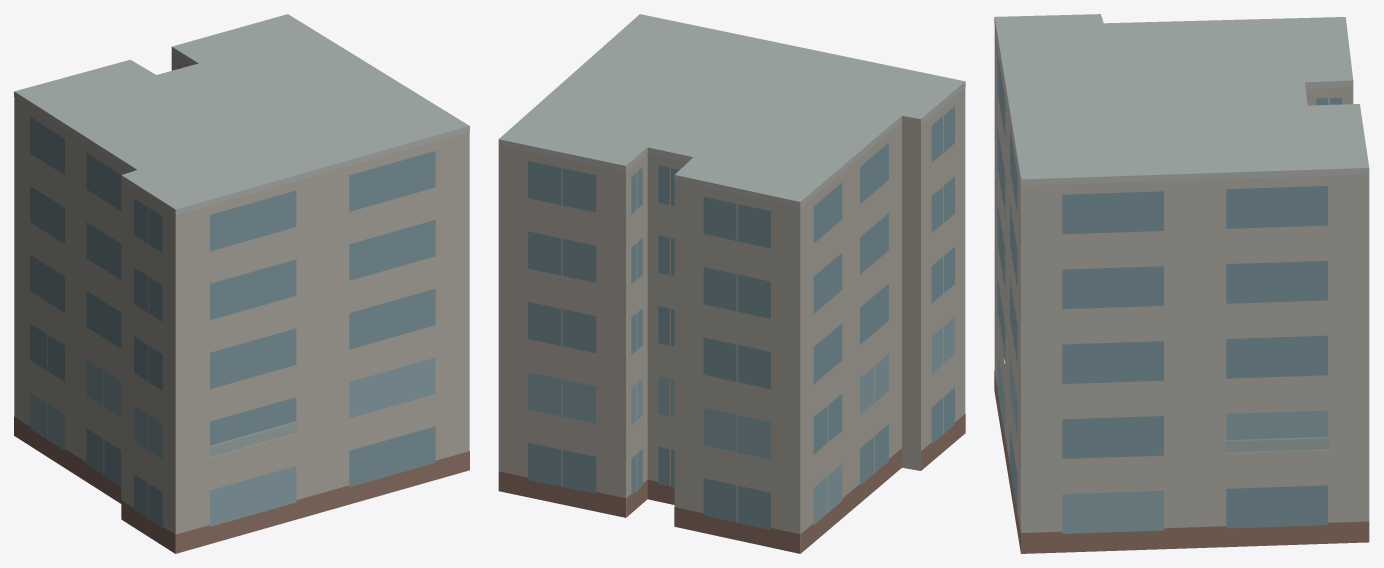
The model's file is survey-upis-32984139.glb.
3 renders of one model, left to right at view 1: azimuth 30°, elevation 25°; view 2: azimuth 150°, elevation 25°; view 3: azimuth 270°, elevation 25°, orthographic. The views are drawn at different scales.
Parts seen in each view (by area): view 1: survey-upis-32984139.tmp; view 2: survey-upis-32984139.tmp; view 3: survey-upis-32984139.tmp.
Part boxes in pixels (x1=…): survey-upis-32984139.tmp: x1=14, y1=14, x2=469, y2=553; survey-upis-32984139.tmp: x1=498, y1=14, x2=965, y2=553; survey-upis-32984139.tmp: x1=994, y1=14, x2=1369, y2=553.
Size of the model in its own units: 13.46 by 14.2 by 12.89.
